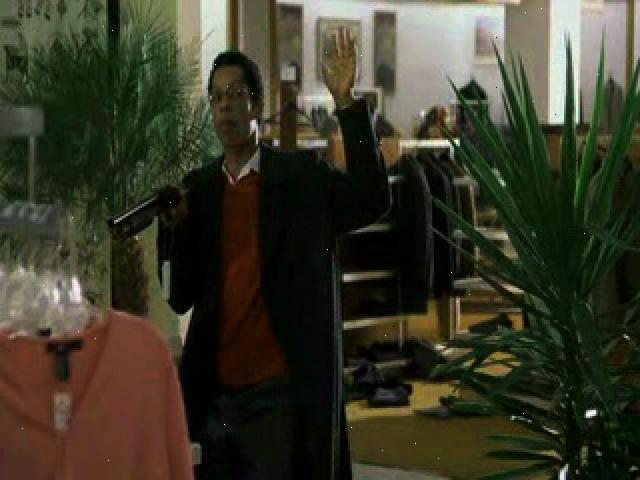L: (111, 24, 393, 478)
